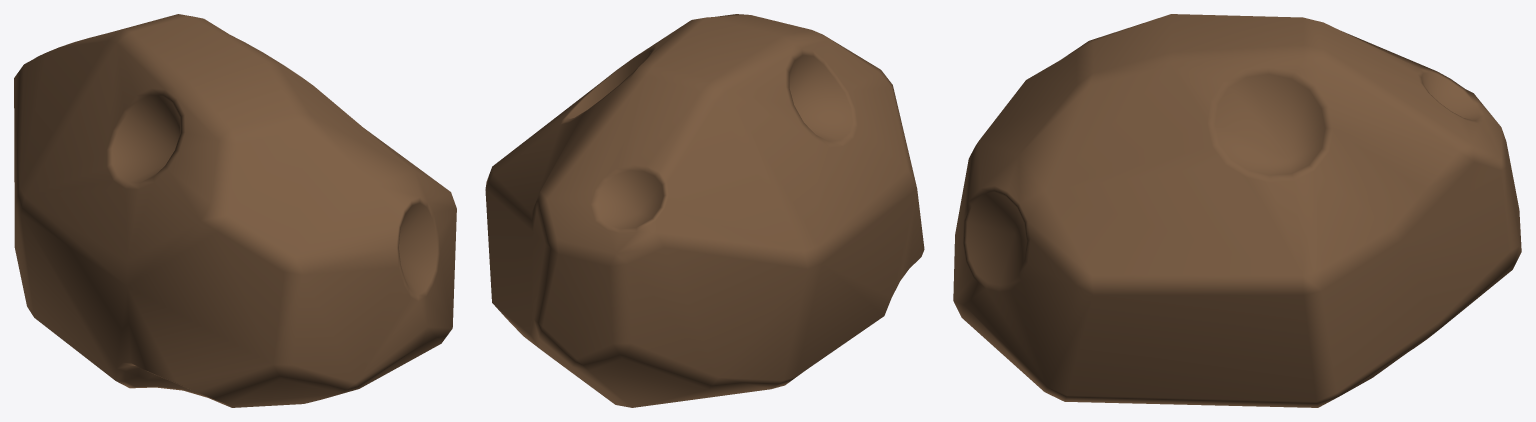
File: Asteroid_Prefab.fbx
3 renders of one model, left to right at view 1: azimuth 30°, elevation 25°; view 2: azimuth 150°, elevation 25°; view 3: azimuth 270°, elevation 25°, orthographic. The views are drawn at different scales.
Visible parts, largest first — view 1: Asteroid; view 2: Asteroid; view 3: Asteroid.
Part boxes in pixels (bbox=[...]): Asteroid: bbox=[14, 14, 456, 407]; Asteroid: bbox=[485, 14, 924, 407]; Asteroid: bbox=[953, 14, 1521, 407].
Bounding box in the file's own units: 24.01 × 20.59 × 33.69.
